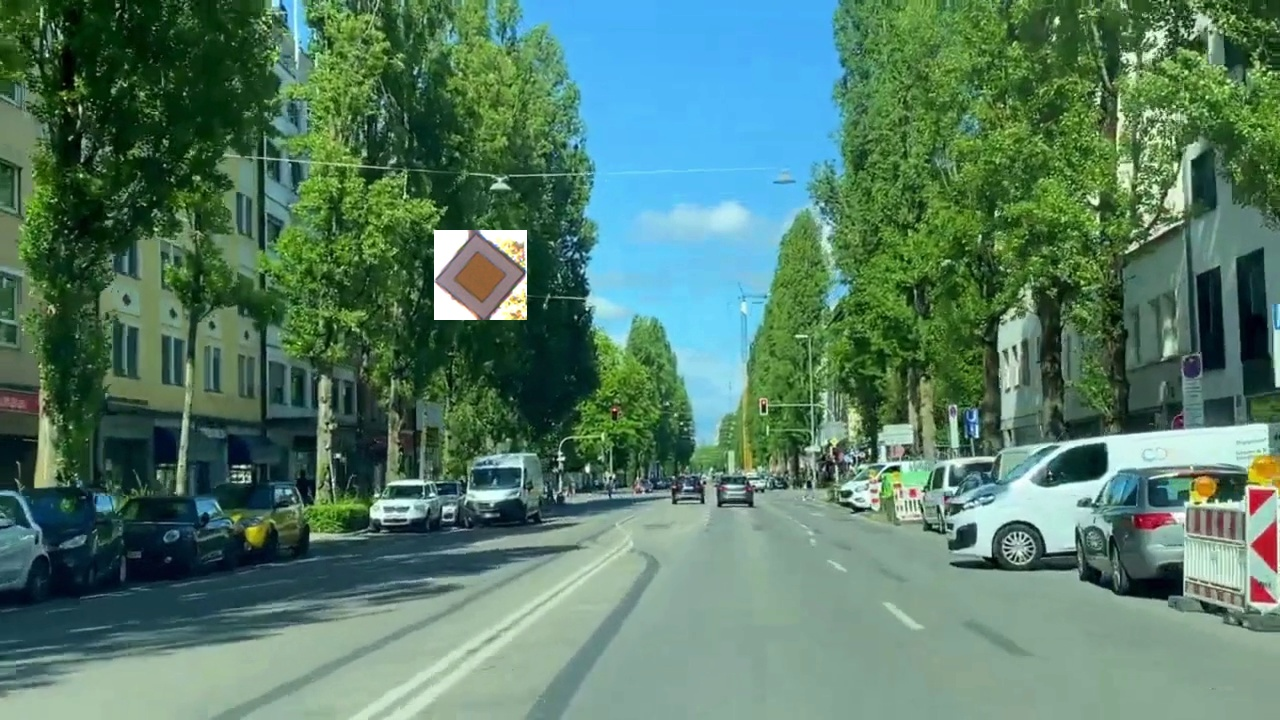Priority road: (434, 230, 527, 320)
